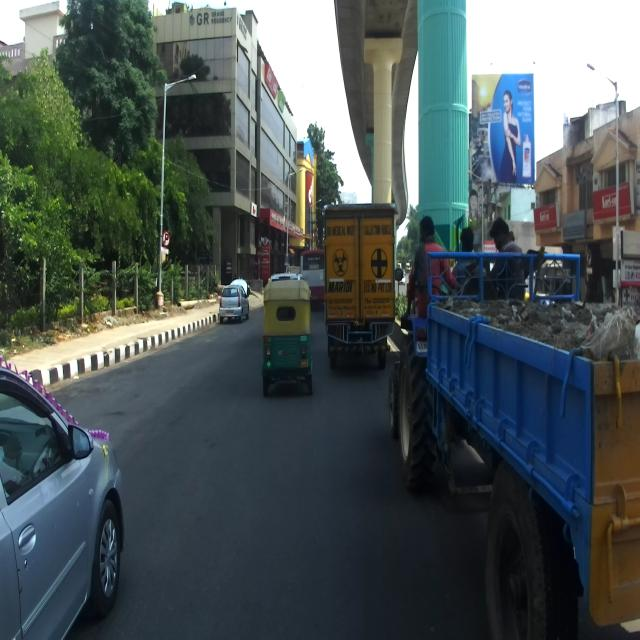auto ahead at: (263, 280, 311, 396)
car ahead at: (1, 364, 122, 640)
truck ahead at: (393, 214, 640, 640), (318, 202, 396, 368)
